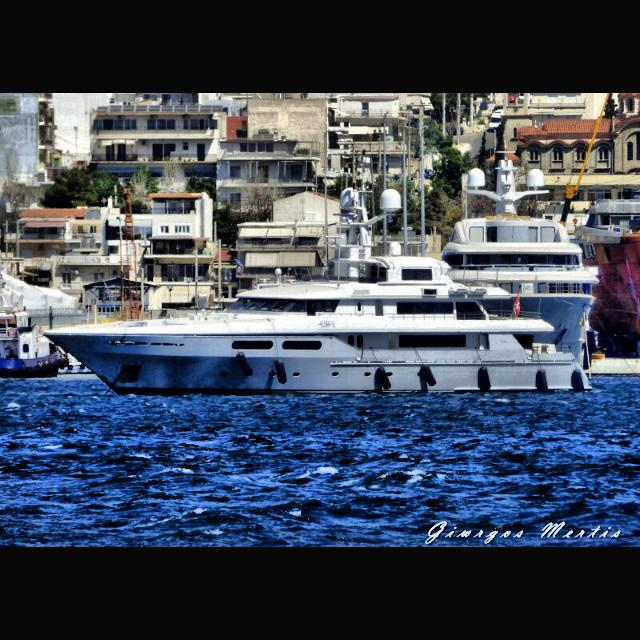yacht: (41, 183, 592, 395)
